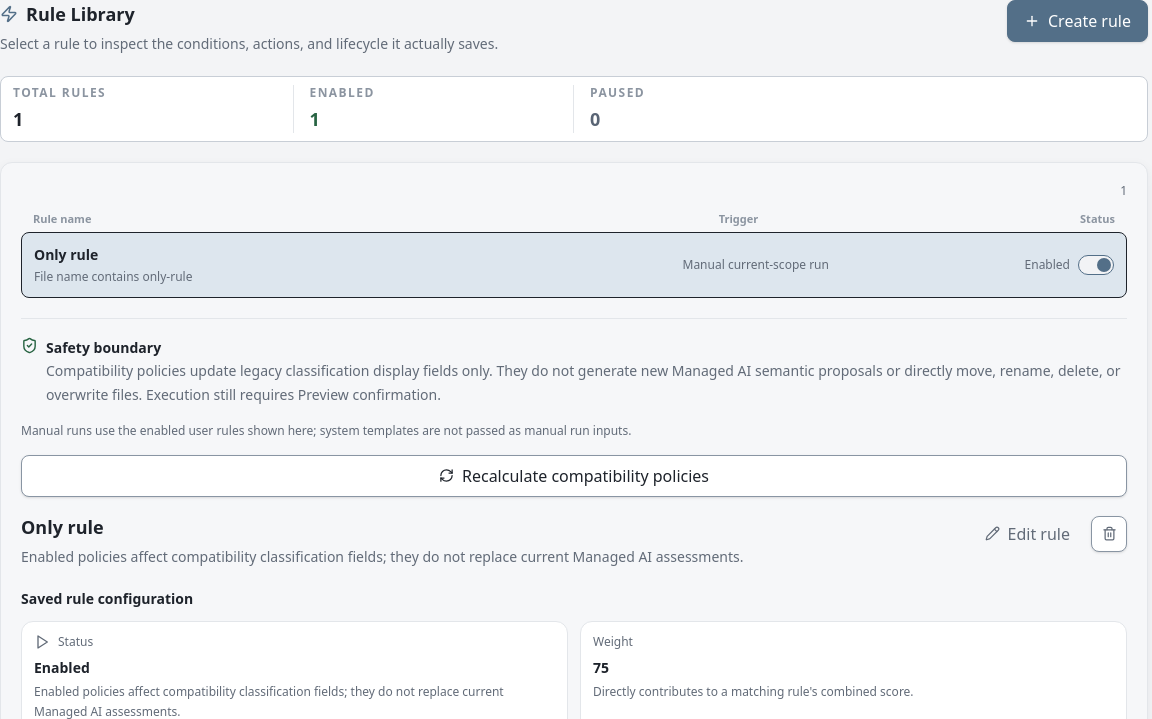
automation rule workspace behavior › marks a completed result stale after a rule delete
Click the button "Recalculate compatibility policies" at (574, 476), box left=21, top=454, right=1127, bottom=496
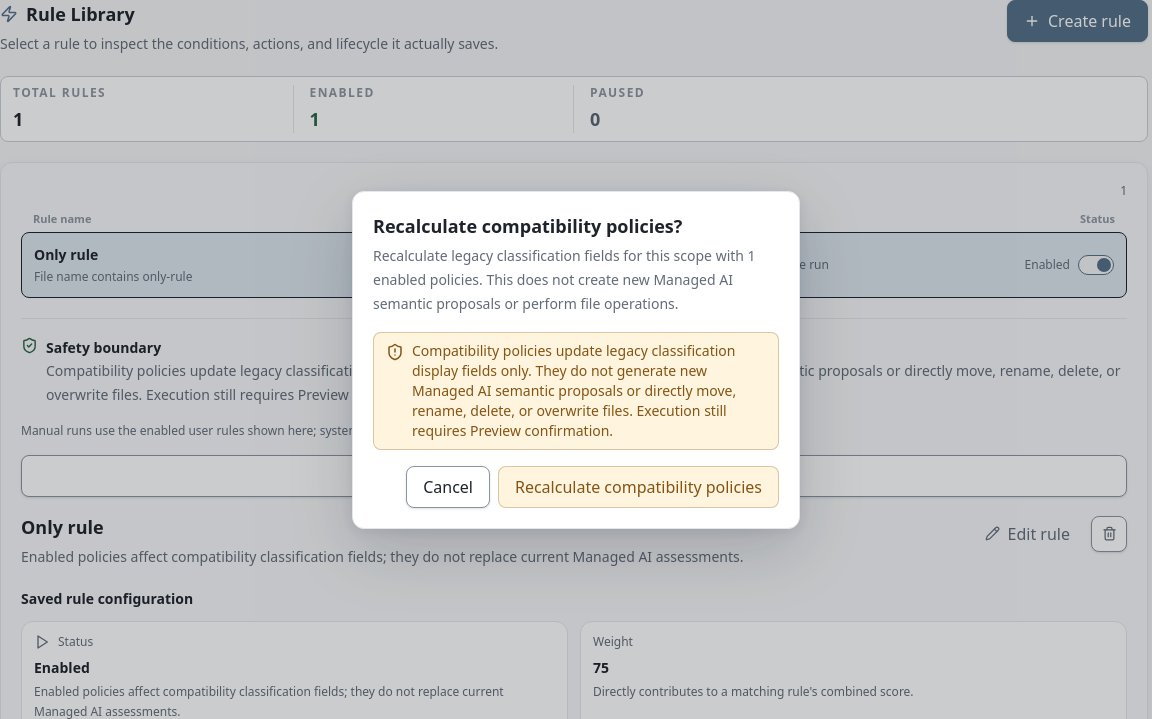
Click the button "Recalculate compatibility policies" at (638, 487), box left=498, top=466, right=779, bottom=508
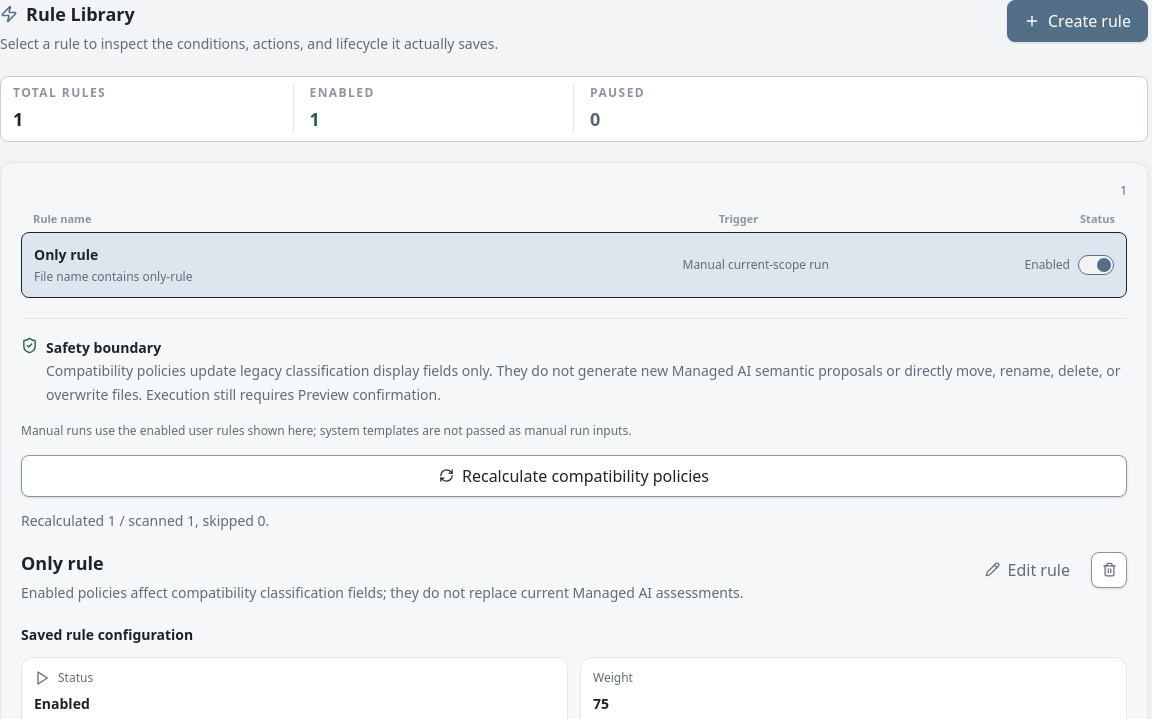
Click the button named "Delete rule" at (1109, 570), box left=1091, top=552, right=1127, bottom=588
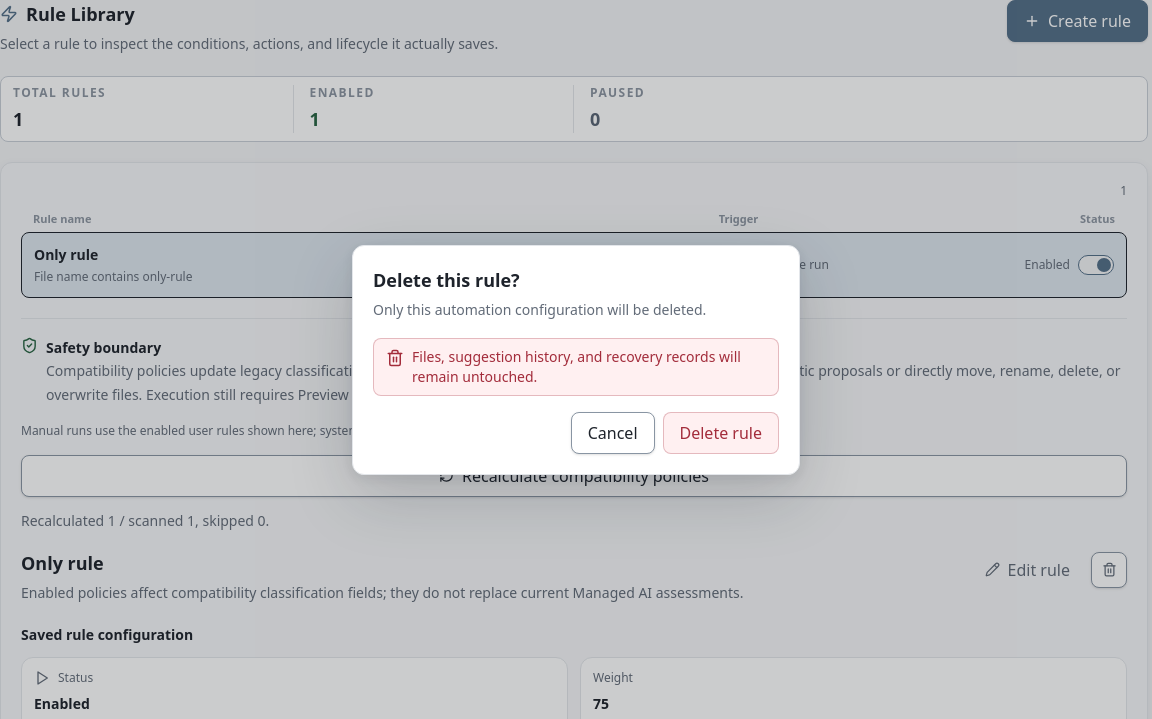
Click the button "Delete rule" at (721, 433), box left=662, top=412, right=779, bottom=454
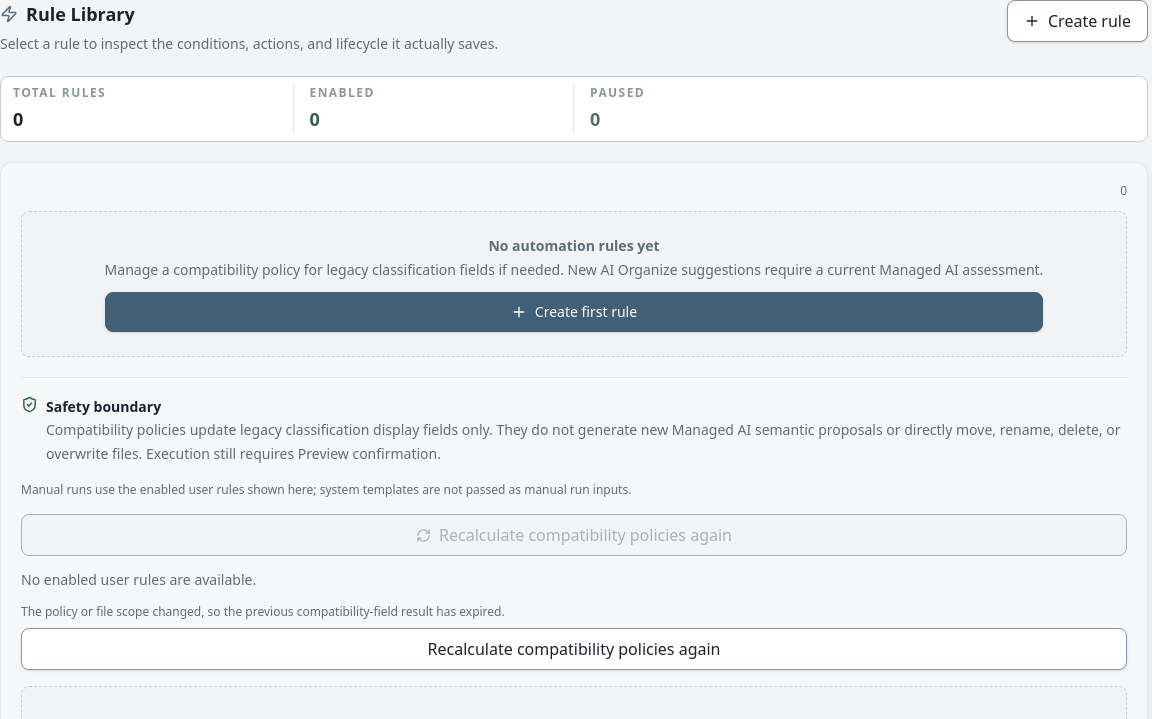
Now the message shows "previous compatibility-field result has expired", box left=21, top=603, right=505, bottom=620
